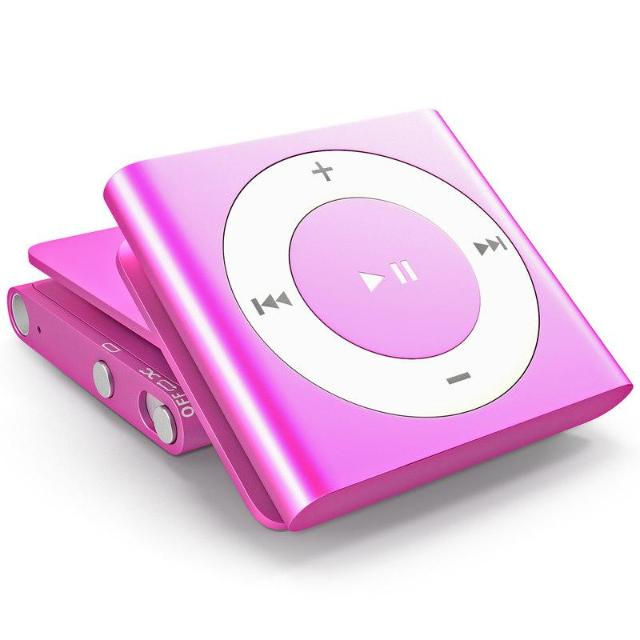Music-Player: (104, 90, 636, 570)
